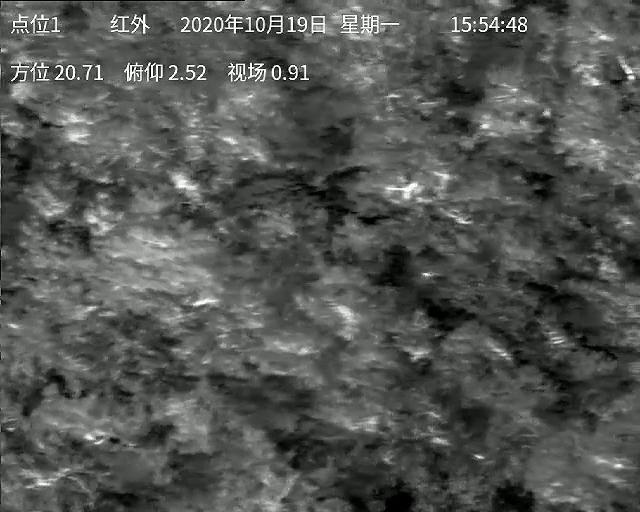uav: (419, 271, 442, 280)
